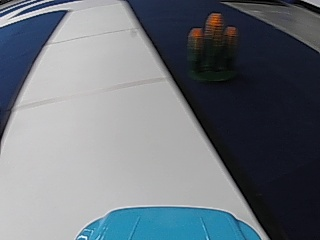corn: (189, 9, 237, 82)
